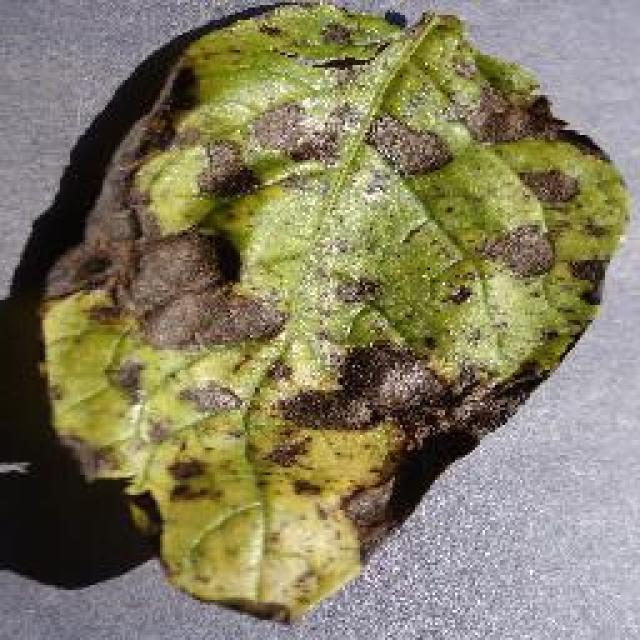Potato___Early_blight: (33, 3, 634, 633)
